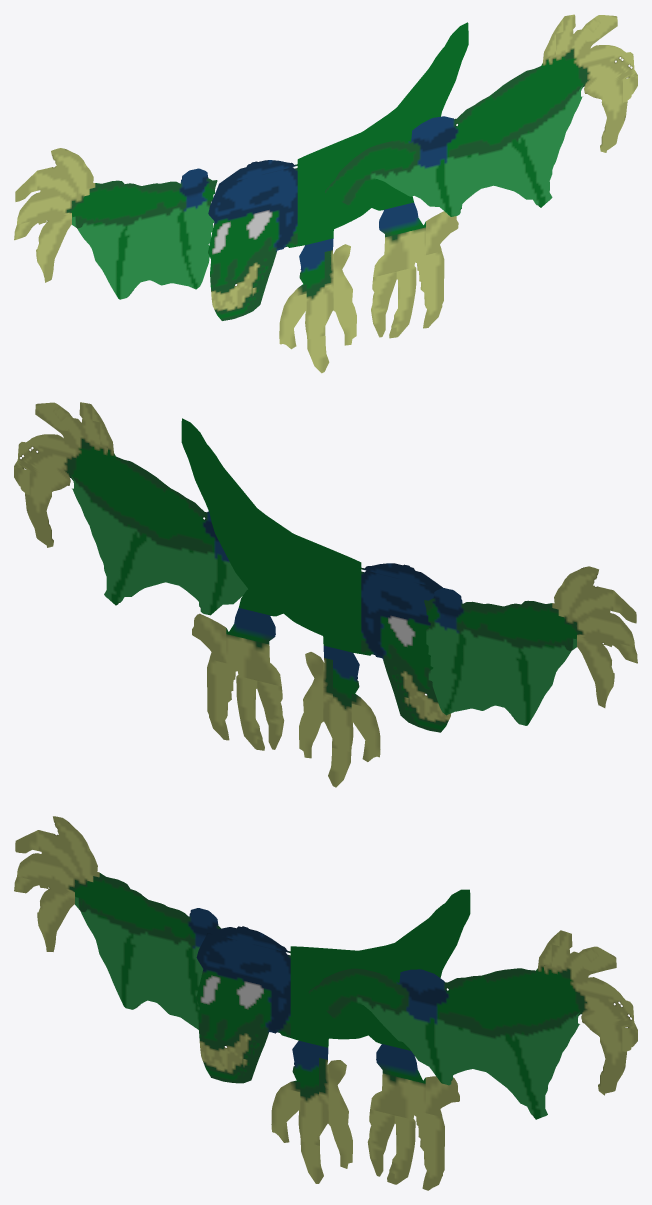
Rendered from Flying_Monster.fbx.
The picture shows the model from 3 angles, top to bottom: view 1: azimuth 30°, elevation 25°; view 2: azimuth 150°, elevation 25°; view 3: azimuth 330°, elevation 25°; orthographic projection. The views are drawn at different scales.
Visible parts, largest first — view 1: Birds_Head_and_Body, Right_Wing, Left_Wing; view 2: Birds_Head_and_Body, Right_Wing, Left_Wing; view 3: Birds_Head_and_Body, Right_Wing, Left_Wing.
Boxes of the visible parts, left/top/right/bottom form: Birds_Head_and_Body: left=208, top=22, right=468, bottom=373; Right_Wing: left=325, top=14, right=637, bottom=216; Left_Wing: left=14, top=148, right=217, bottom=299; Birds_Head_and_Body: left=181, top=418, right=450, bottom=787; Right_Wing: left=14, top=402, right=247, bottom=615; Left_Wing: left=424, top=566, right=637, bottom=725; Birds_Head_and_Body: left=196, top=889, right=470, bottom=1190; Right_Wing: left=308, top=930, right=637, bottom=1119; Left_Wing: left=14, top=816, right=220, bottom=1029.
Bounding box in the file's own units: 2.91 × 1.44 × 0.1276.
Materials: 3 (3 with a texture image).
